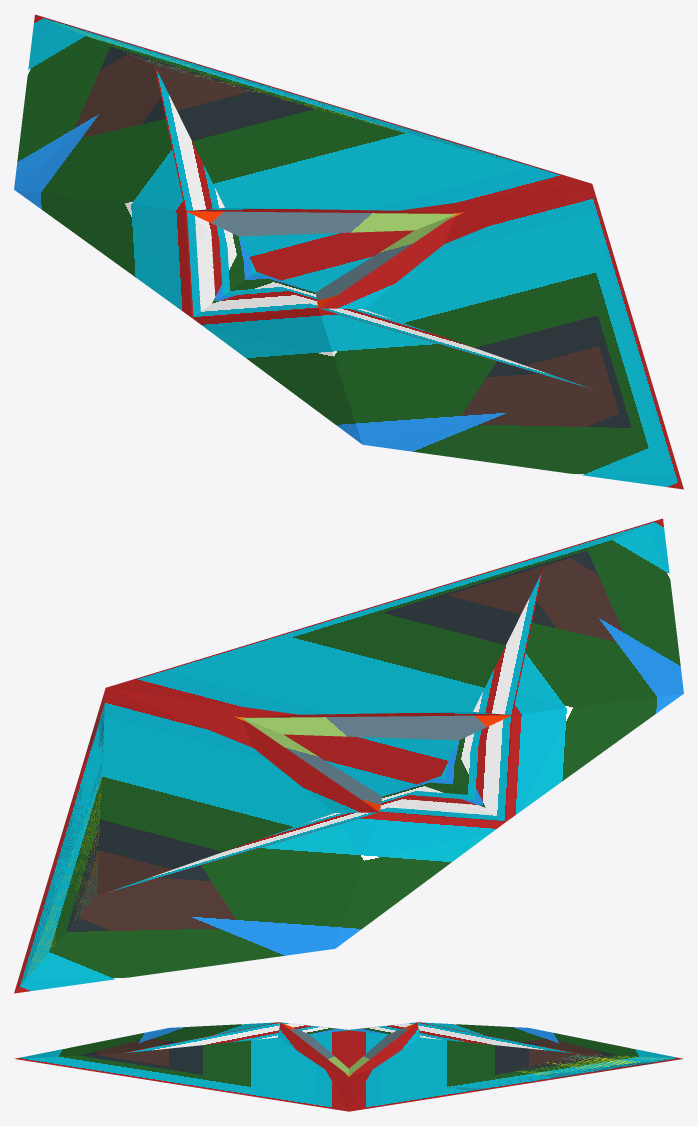
Rendered from enemyspaceship2.glb.
3 views of the same model, one above another, from view 1: azimuth 30°, elevation 25°; view 2: azimuth 150°, elevation 25°; view 3: azimuth 270°, elevation 25° (orthographic). The views are drawn at different scales.
Visible parts, largest first — view 1: Cube; view 2: Cube; view 3: Cube.
Part boxes in pixels (x1=…): Cube: x1=14, y1=14, x2=683, y2=489; Cube: x1=14, y1=518, x2=683, y2=993; Cube: x1=14, y1=1022, x2=683, y2=1111.
Size of the model in its own units: 1.5 by 0.1571 by 4.19.
1 material, 1 textured.
